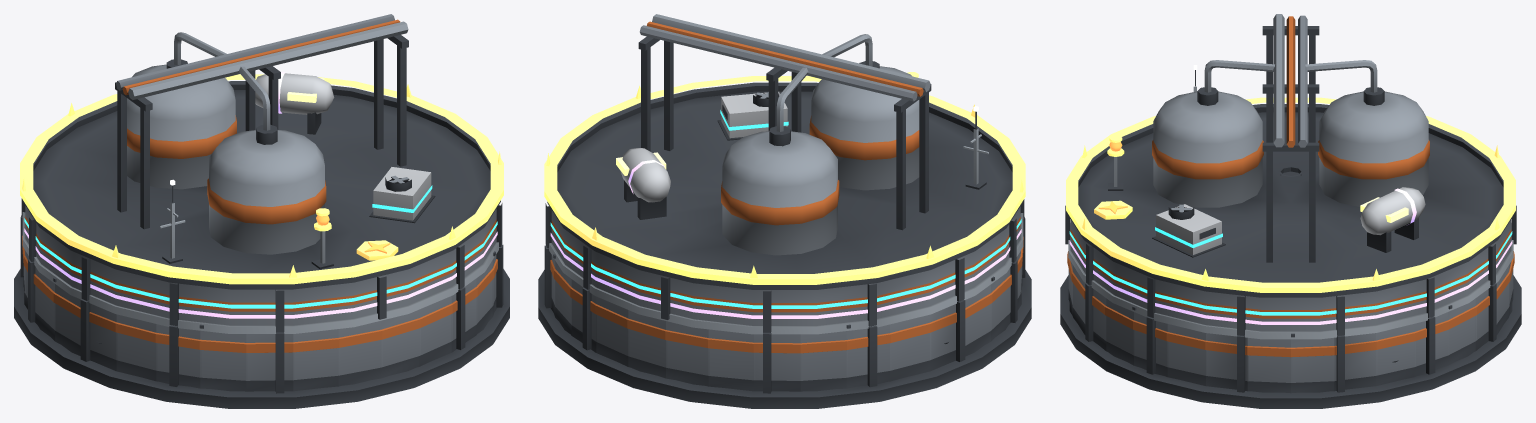
The model's file is polymer_plant.glb.
The picture shows the model from 3 angles, left to right: view 1: azimuth 30°, elevation 25°; view 2: azimuth 150°, elevation 25°; view 3: azimuth 270°, elevation 25°; orthographic projection. The views are drawn at different scales.
Parts seen in each view (by area): view 1: Roof, L5, Base, L2, L3, L4, Wall_21, Wall_20, Wall_22, Wall_19, Wall_23, Wall_18 (+9 smaller); view 2: Roof, L5, Base, L2, L4, L3, Wall_10, Wall_11, Wall_09, Wall_12, Wall_08, Wall_13 (+9 smaller); view 3: Roof, L5, Base, L4, L3, L2, Wall_00, Wall_31, Wall_01, Wall_30, Wall_02, Wall_29 (+8 smaller).
Part boxes in pixels (x1=…): Roof: x1=21, y1=14, x2=502, y2=332; L5: x1=20, y1=74, x2=503, y2=284; Base: x1=14, y1=269, x2=509, y2=408; L2: x1=22, y1=179, x2=499, y2=333; L3: x1=24, y1=167, x2=497, y2=308; L4: x1=24, y1=72, x2=497, y2=318; Wall_21: x1=246, y1=332, x2=293, y2=393; Wall_20: x1=199, y1=324, x2=246, y2=391; Wall_22: x1=293, y1=329, x2=339, y2=391; Wall_19: x1=155, y1=324, x2=200, y2=388; Wall_23: x1=338, y1=321, x2=382, y2=386; Wall_18: x1=115, y1=314, x2=156, y2=381; Roof: x1=545, y1=14, x2=1024, y2=332; L5: x1=544, y1=72, x2=1025, y2=284; Base: x1=538, y1=270, x2=1031, y2=408; L2: x1=549, y1=106, x2=1023, y2=334; L4: x1=550, y1=148, x2=1021, y2=318; L3: x1=550, y1=91, x2=1021, y2=308; Wall_10: x1=753, y1=332, x2=800, y2=393; Wall_11: x1=800, y1=331, x2=846, y2=391; Wall_09: x1=708, y1=329, x2=753, y2=391; Wall_12: x1=846, y1=324, x2=890, y2=388; Wall_08: x1=665, y1=316, x2=708, y2=386; Wall_13: x1=890, y1=315, x2=930, y2=381; Roof: x1=1065, y1=14, x2=1516, y2=335; L5: x1=1066, y1=97, x2=1515, y2=292; Base: x1=1060, y1=275, x2=1521, y2=408; L4: x1=1069, y1=187, x2=1512, y2=324; L3: x1=1069, y1=166, x2=1512, y2=315; L2: x1=1068, y1=65, x2=1513, y2=339; Wall_00: x1=1291, y1=333, x2=1334, y2=393; Wall_31: x1=1247, y1=338, x2=1290, y2=393; Wall_01: x1=1334, y1=333, x2=1376, y2=392; Wall_30: x1=1205, y1=333, x2=1247, y2=392; Wall_02: x1=1376, y1=324, x2=1415, y2=385; Wall_29: x1=1166, y1=324, x2=1205, y2=385.
Bounding box in the file's own units: 9.72 × 5.47 × 9.72.
